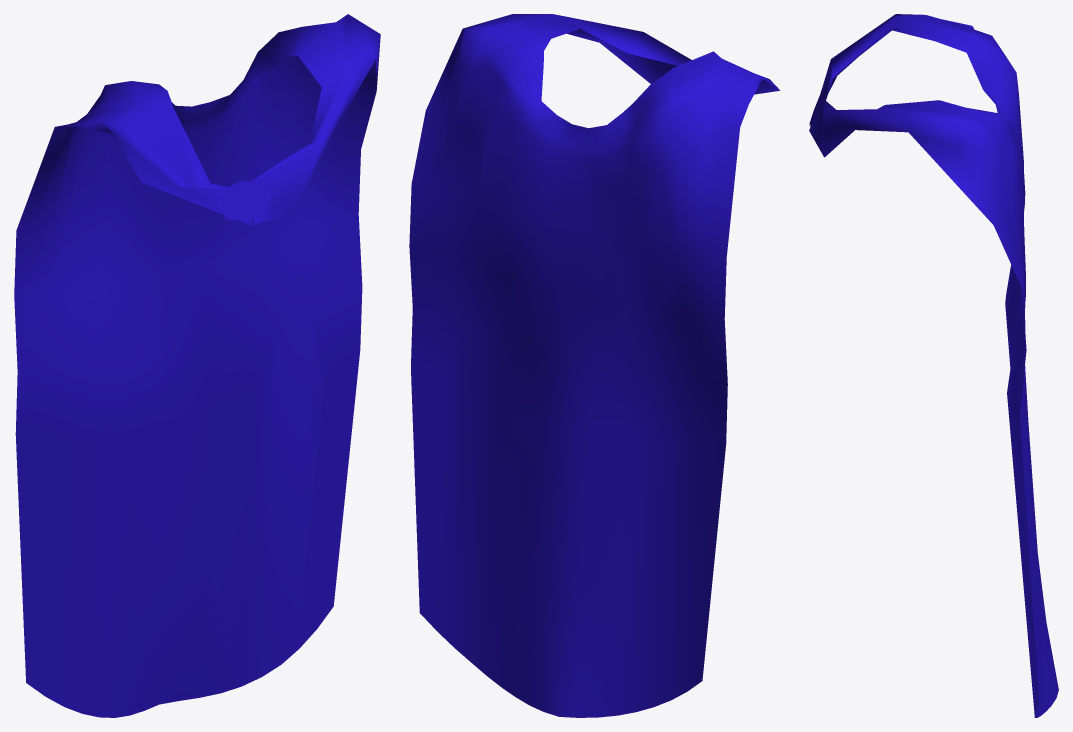
The model's file is germ_cape_short.dae.
The picture shows the model from 3 angles, left to right: view 1: azimuth 30°, elevation 25°; view 2: azimuth 150°, elevation 25°; view 3: azimuth 270°, elevation 25°; orthographic projection. The views are drawn at different scales.
Visible parts, largest first — view 1: Cape_Short; view 2: Cape_Short; view 3: Cape_Short.
Part boxes in pixels (x1,y1,x2,y2): Cape_Short: (14,14,380,717); Cape_Short: (409,14,779,717); Cape_Short: (809,14,1058,717).
Bounding box in the file's own units: 1.17 × 0.8019 × 2.24.
